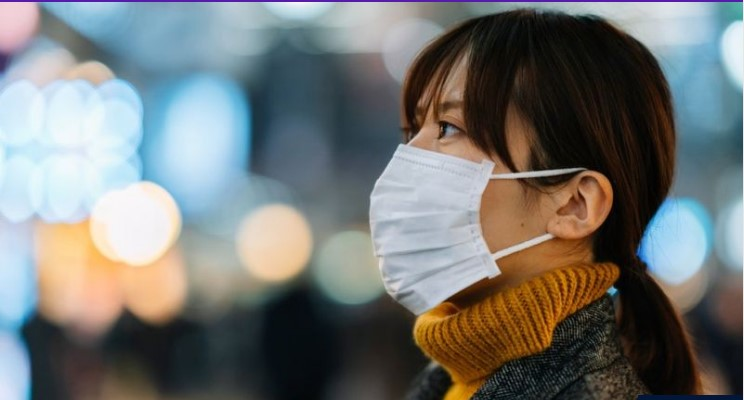face_with_mask: (364, 33, 649, 317)
